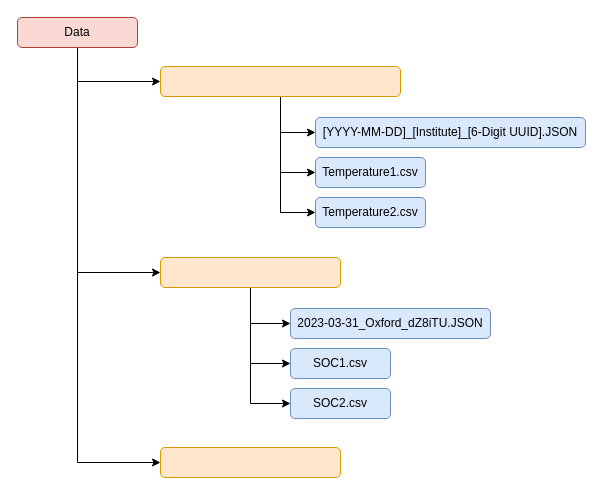
The diagram is 603 pixels wide and 495 high, and some of its shapes have lost their labels. The box of each missing label's shape, as (x1, y1, x2, y2) in pixels:
2023-03-20_SINTEF_LjkQYJ: (160, 446, 340, 478)
2023-03-31_Oxford_dZ8iTU: (160, 256, 340, 288)
[YYYY-MM-DD]_[Institute]_[6-Digit UUID]: (160, 66, 400, 96)
